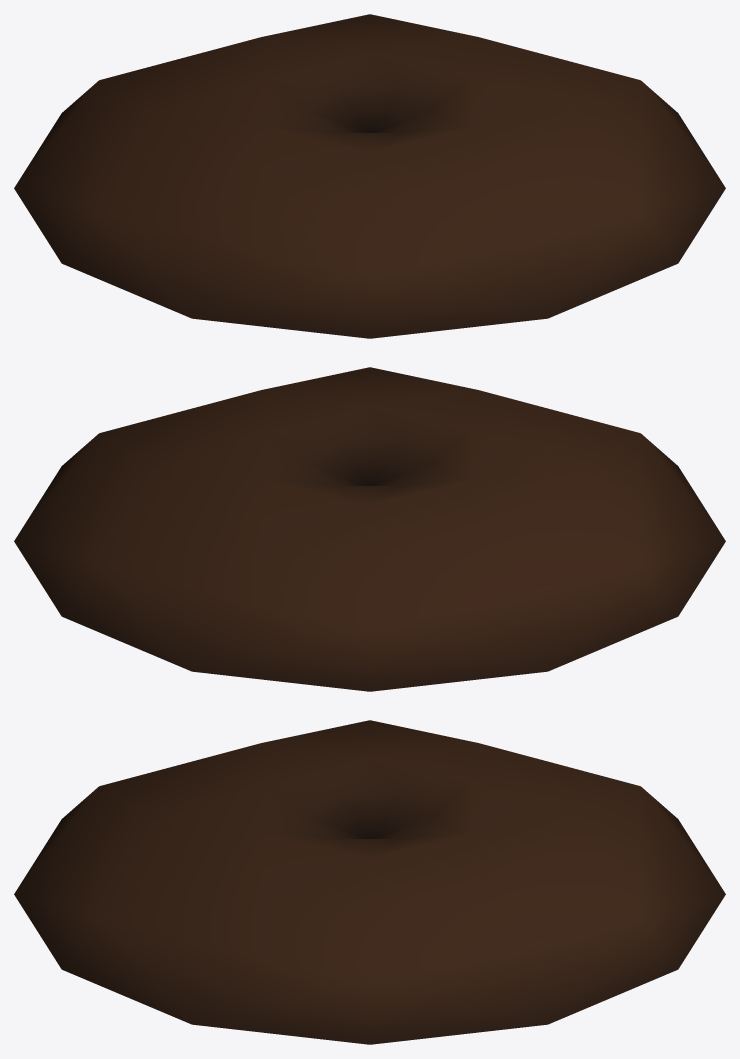
Rendered from DirtMound.fbx.
3 renders of one model, top to bottom at view 1: azimuth 30°, elevation 25°; view 2: azimuth 150°, elevation 25°; view 3: azimuth 270°, elevation 25°, orthographic.
Parts seen in each view (by area): view 1: Dirt Mound; view 2: Dirt Mound; view 3: Dirt Mound.
Part boxes in pixels (box(x1,y1,x2,y2)): Dirt Mound: box(14, 14, 725, 338); Dirt Mound: box(14, 367, 725, 691); Dirt Mound: box(14, 720, 725, 1044).
Size of the model in its own units: 200 by 26.8 by 200.
